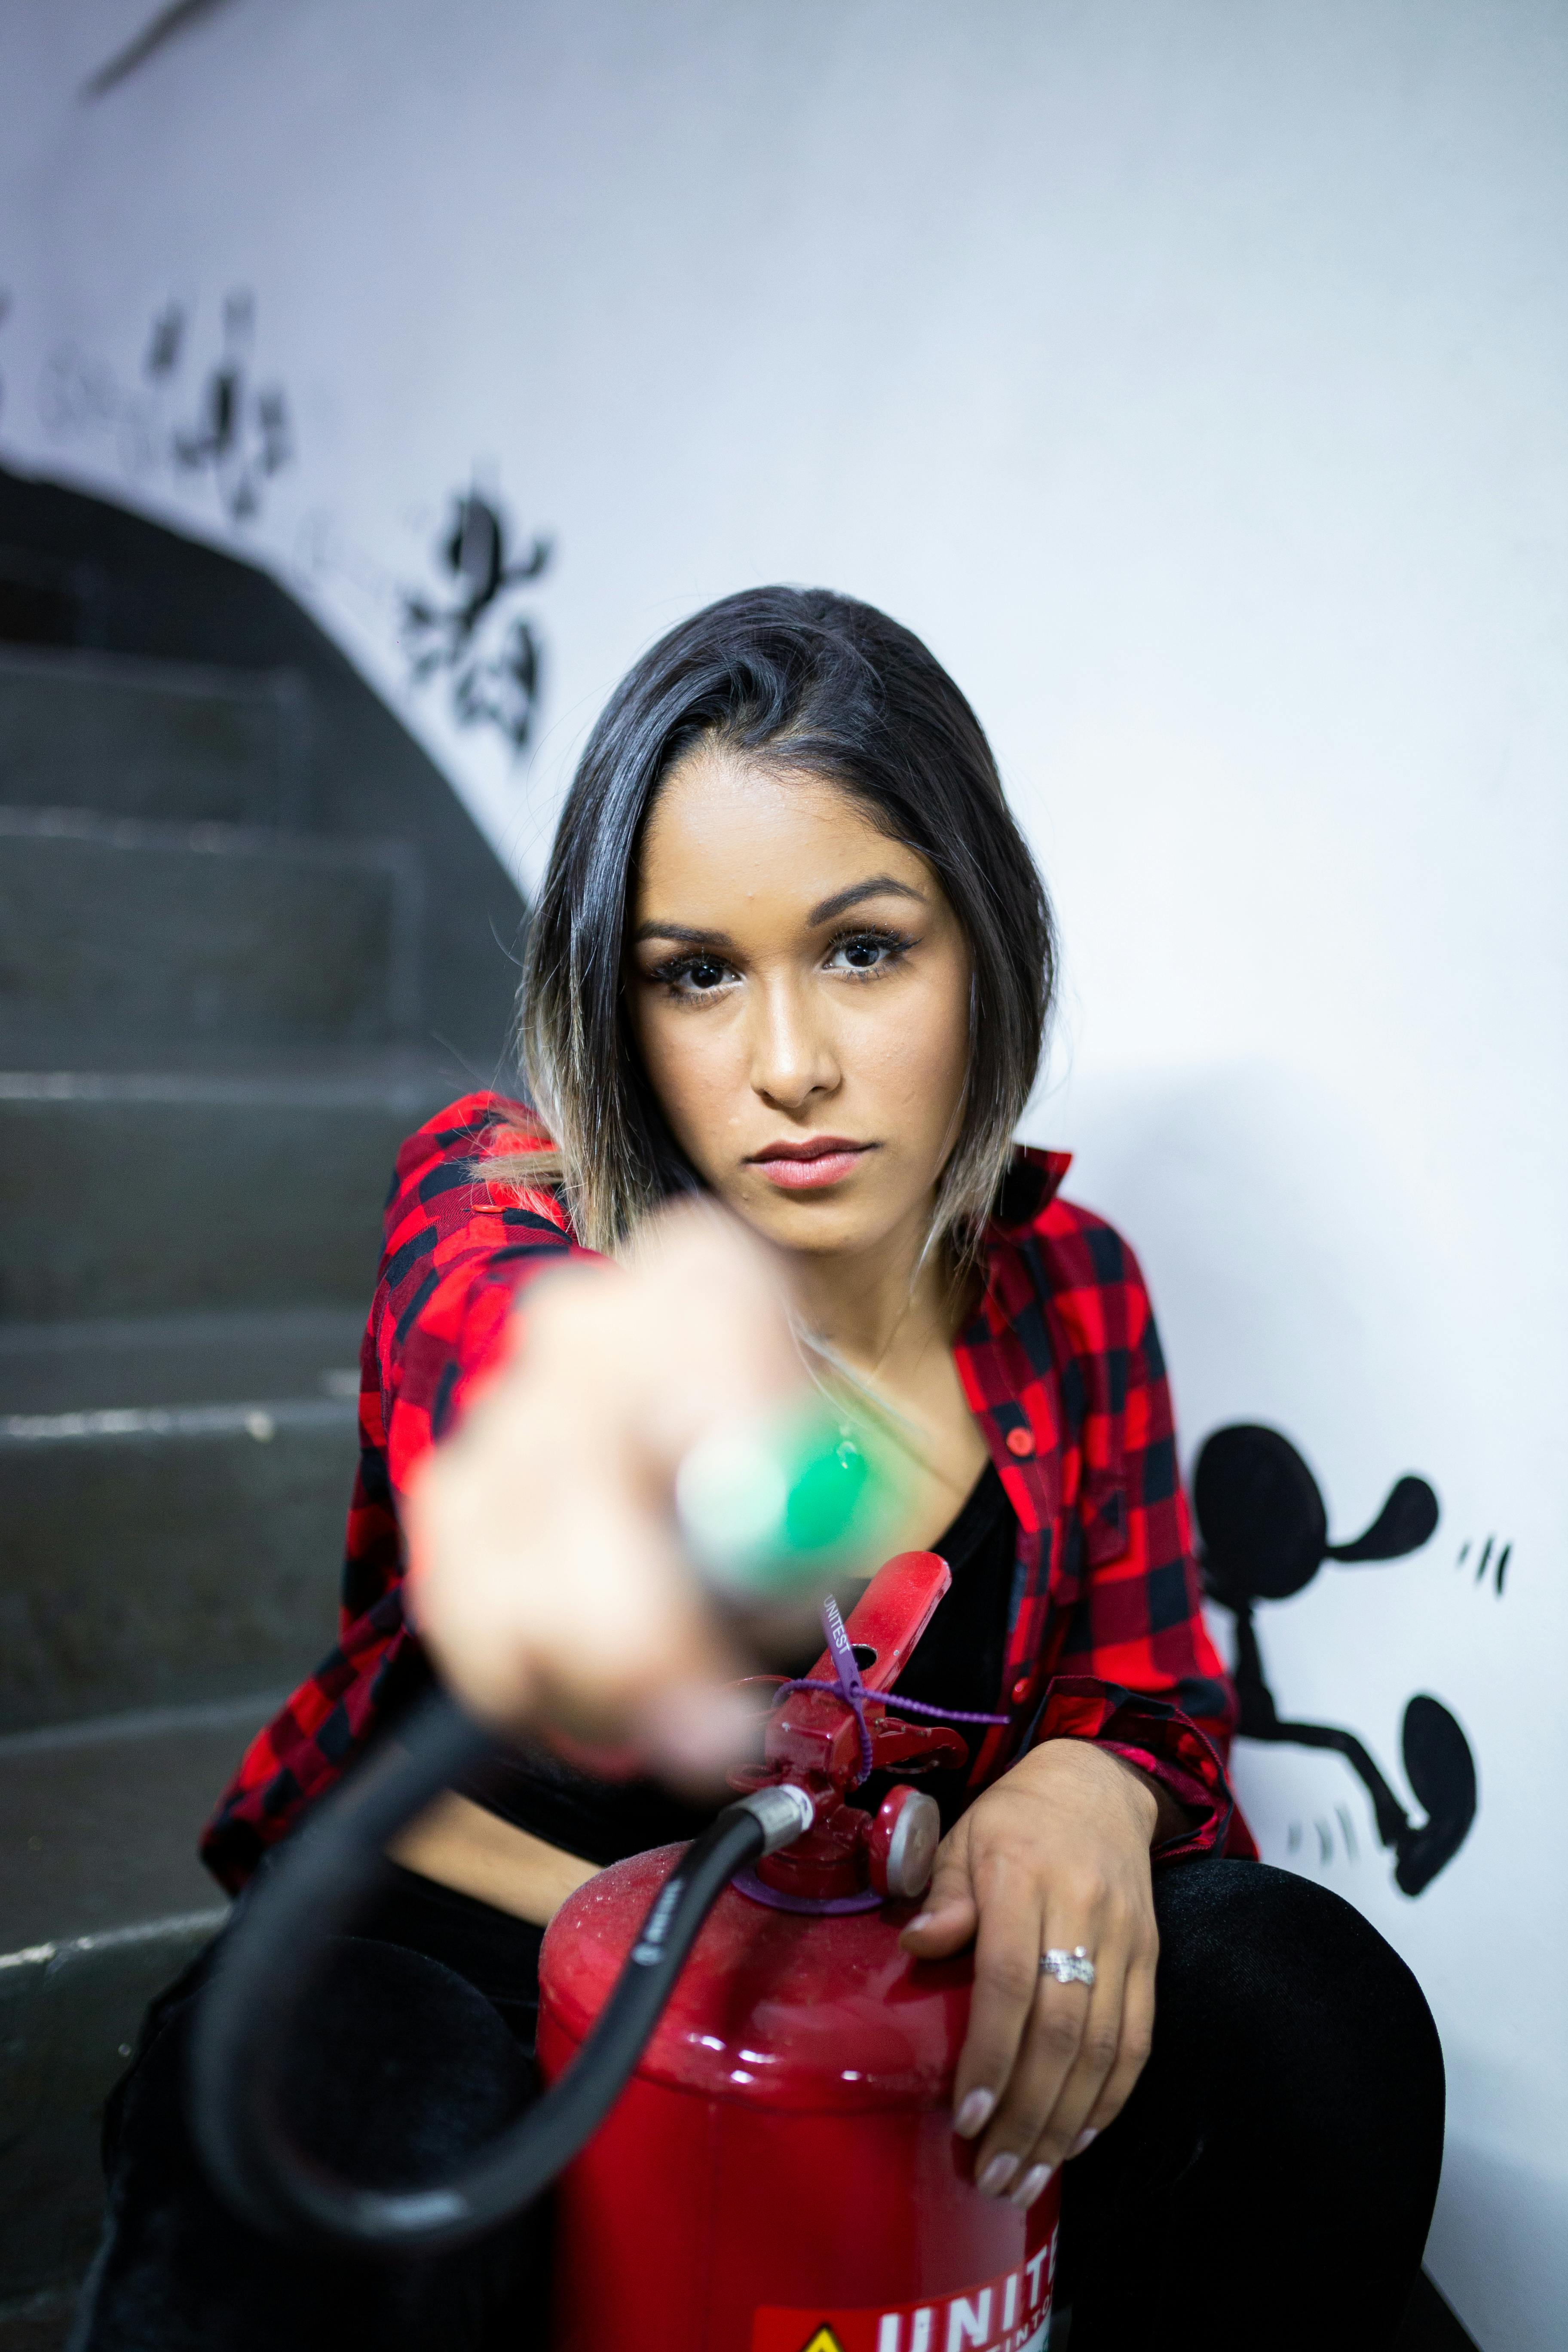extintor: (528, 1545, 1059, 2336)
